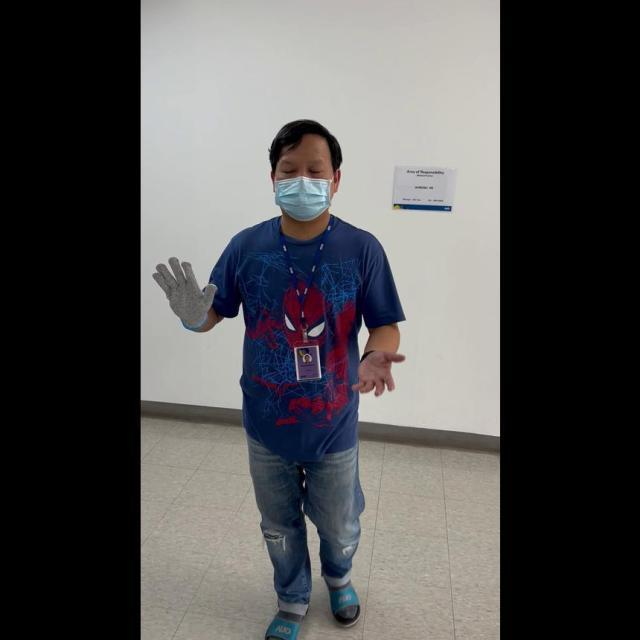bare_hand: (352, 343, 403, 397)
gloved_hand: (151, 253, 217, 330)
